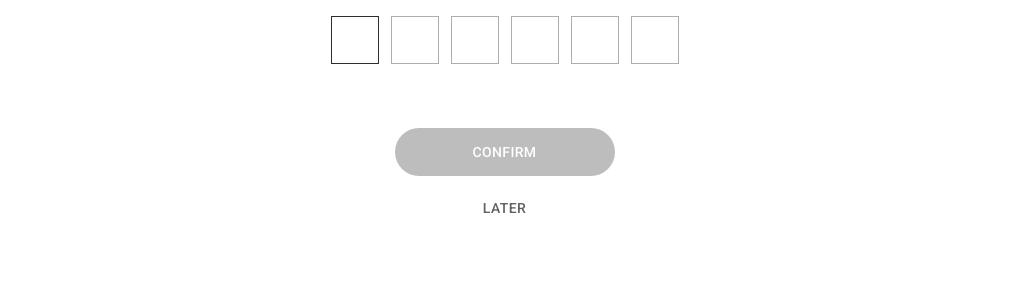
Scenario: EmailVerificationForm Component › should allow entering 6 digits and submit successfully
The image size is (1024, 298).
In the field named "Digit 1": [354, 40] box [330, 16, 378, 64], type "1"
In the field named "Digit 2": [414, 40] box [390, 16, 438, 64], type "2"
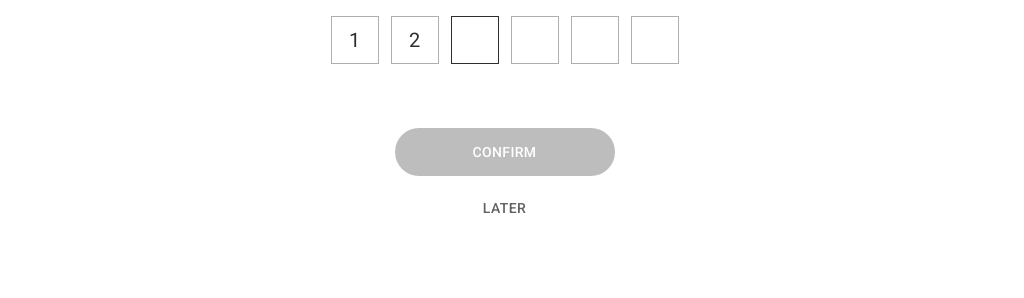
In the field named "Digit 3": [474, 40] box [450, 16, 498, 64], type "3"
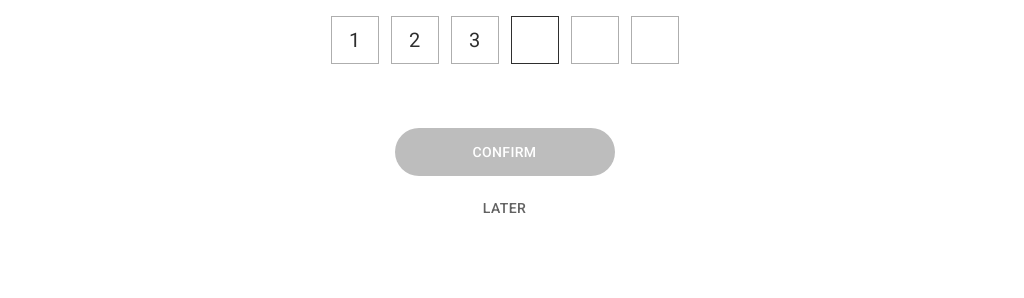
In the field named "Digit 4": [534, 40] box [510, 16, 558, 64], type "4"
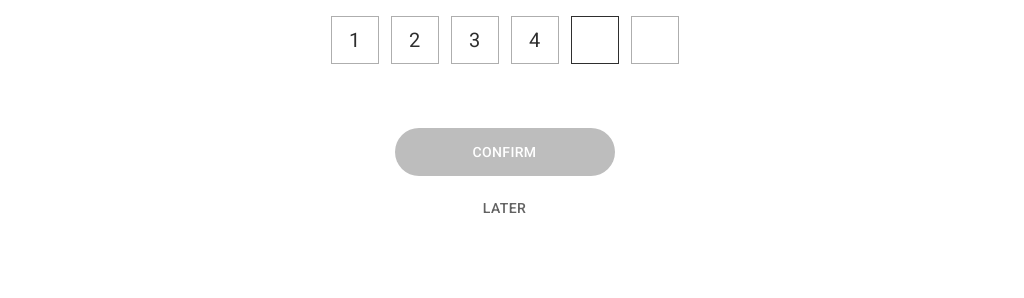
In the field named "Digit 5": [594, 40] box [570, 16, 618, 64], type "5"
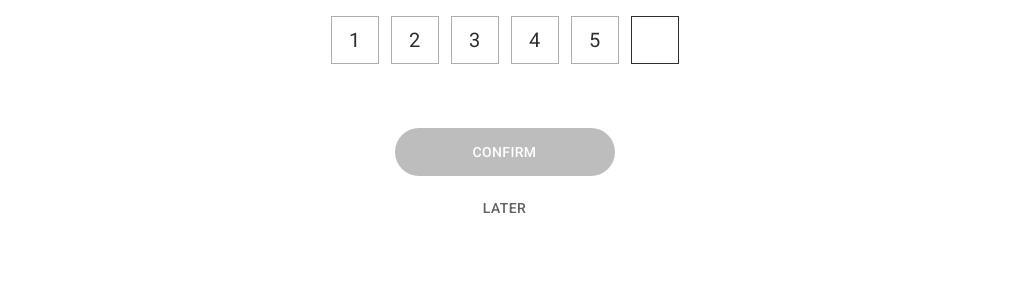
In the field named "Digit 6": [654, 40] box [630, 16, 678, 64], type "6"
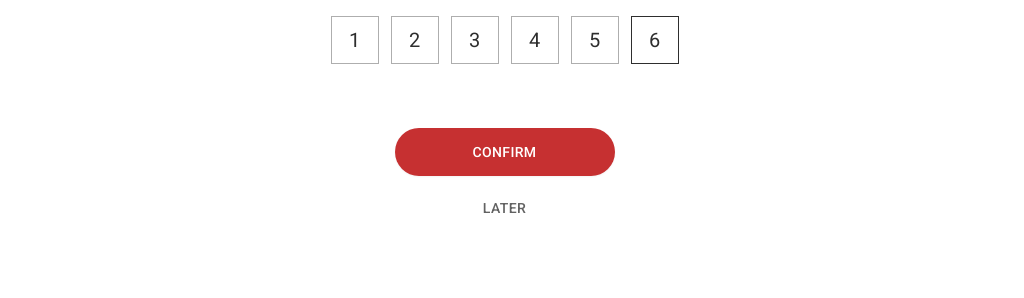
Now the button "CONFIRM" is enabled
Click the button "CONFIRM": [504, 152] box [394, 128, 614, 176]
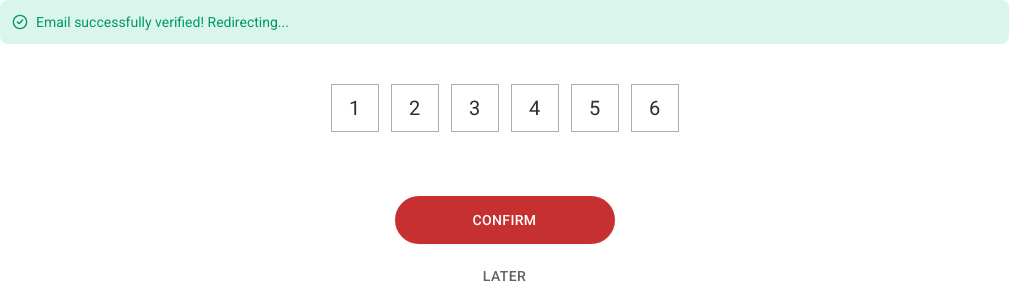
Now the text "Email successfully verified! Redirecting..." is shown, box [36, 12, 289, 32]
